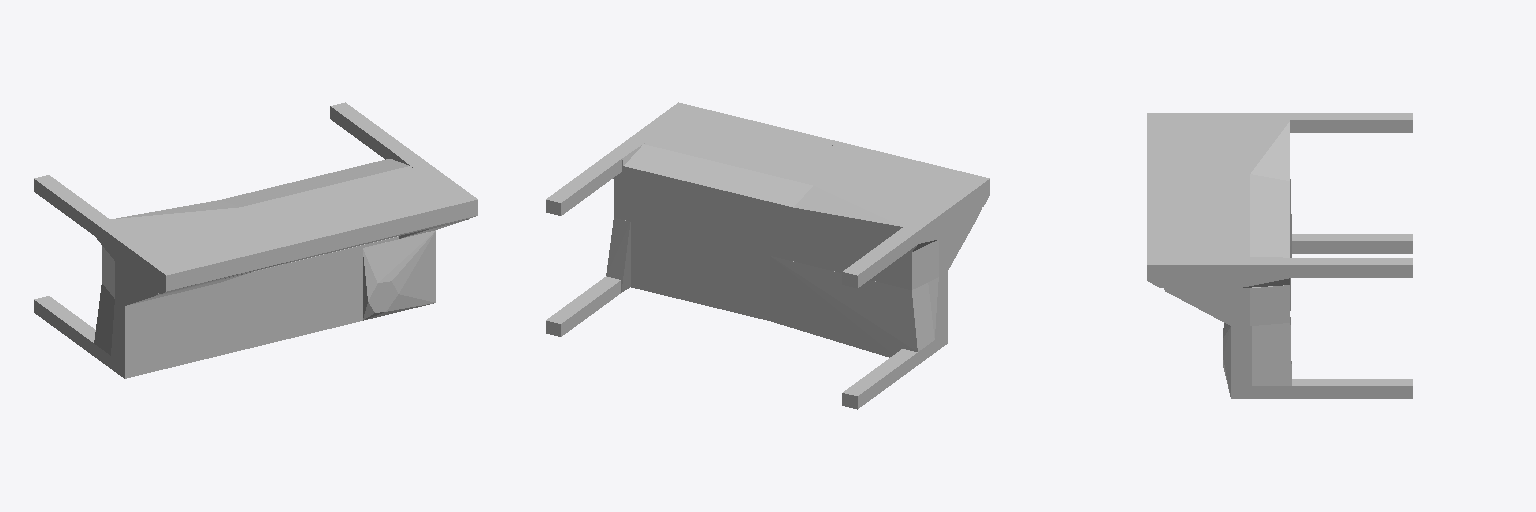
File: base_link_vhacd2.obj
3 renders of one model, left to right at view 1: azimuth 30°, elevation 25°; view 2: azimuth 150°, elevation 25°; view 3: azimuth 270°, elevation 25°, orthographic.
Visible parts, largest first — view 1: convex_4, convex_6, convex_20, convex_5, convex_9, convex_15, convex_17, convex_11, convex_2, convex_3, convex_0, convex_7; view 2: convex_6, convex_7, convex_8, convex_15, convex_20, convex_11, convex_14, convex_12, convex_2, convex_3, convex_0, convex_1 (+6 smaller); view 3: convex_6, convex_20, convex_15, convex_17, convex_13, convex_10, convex_2, convex_3, convex_0, convex_1, convex_5, convex_16 (+1 smaller).
Part boxes in pixels (bbox=[...]): convex_4: bbox=[111, 248, 362, 378]; convex_6: bbox=[95, 200, 291, 293]; convex_20: bbox=[246, 175, 434, 240]; convex_5: bbox=[363, 230, 435, 320]; convex_9: bbox=[287, 205, 440, 262]; convex_15: bbox=[222, 159, 414, 210]; convex_17: bbox=[395, 166, 477, 225]; convex_11: bbox=[102, 246, 250, 305]; convex_2: bbox=[34, 175, 109, 235]; convex_3: bbox=[330, 102, 405, 159]; convex_0: bbox=[34, 296, 95, 355]; convex_7: bbox=[94, 284, 114, 368]; convex_6: bbox=[793, 148, 989, 251]; convex_7: bbox=[770, 256, 934, 364]; convex_8: bbox=[631, 222, 769, 320]; convex_15: bbox=[624, 140, 818, 222]; convex_20: bbox=[671, 116, 858, 180]; convex_11: bbox=[825, 208, 981, 289]; convex_14: bbox=[644, 187, 755, 251]; convex_12: bbox=[756, 215, 824, 268]; convex_2: bbox=[842, 227, 918, 288]; convex_3: bbox=[546, 155, 621, 215]; convex_0: bbox=[842, 349, 917, 409]; convex_1: bbox=[546, 276, 620, 336]; convex_6: bbox=[1147, 113, 1289, 180]; convex_20: bbox=[1159, 174, 1238, 246]; convex_15: bbox=[1239, 174, 1289, 257]; convex_17: bbox=[1147, 247, 1238, 287]; convex_13: bbox=[1164, 285, 1289, 325]; convex_10: bbox=[1252, 317, 1291, 398]; convex_2: bbox=[1290, 113, 1412, 132]; convex_3: bbox=[1290, 258, 1412, 277]; convex_0: bbox=[1292, 234, 1412, 253]; convex_1: bbox=[1292, 379, 1412, 398]; convex_5: bbox=[1223, 323, 1251, 398]; convex_16: bbox=[1239, 257, 1289, 287].
Bounding box in the file's own units: 1.1 × 0.4538 × 0.8139.